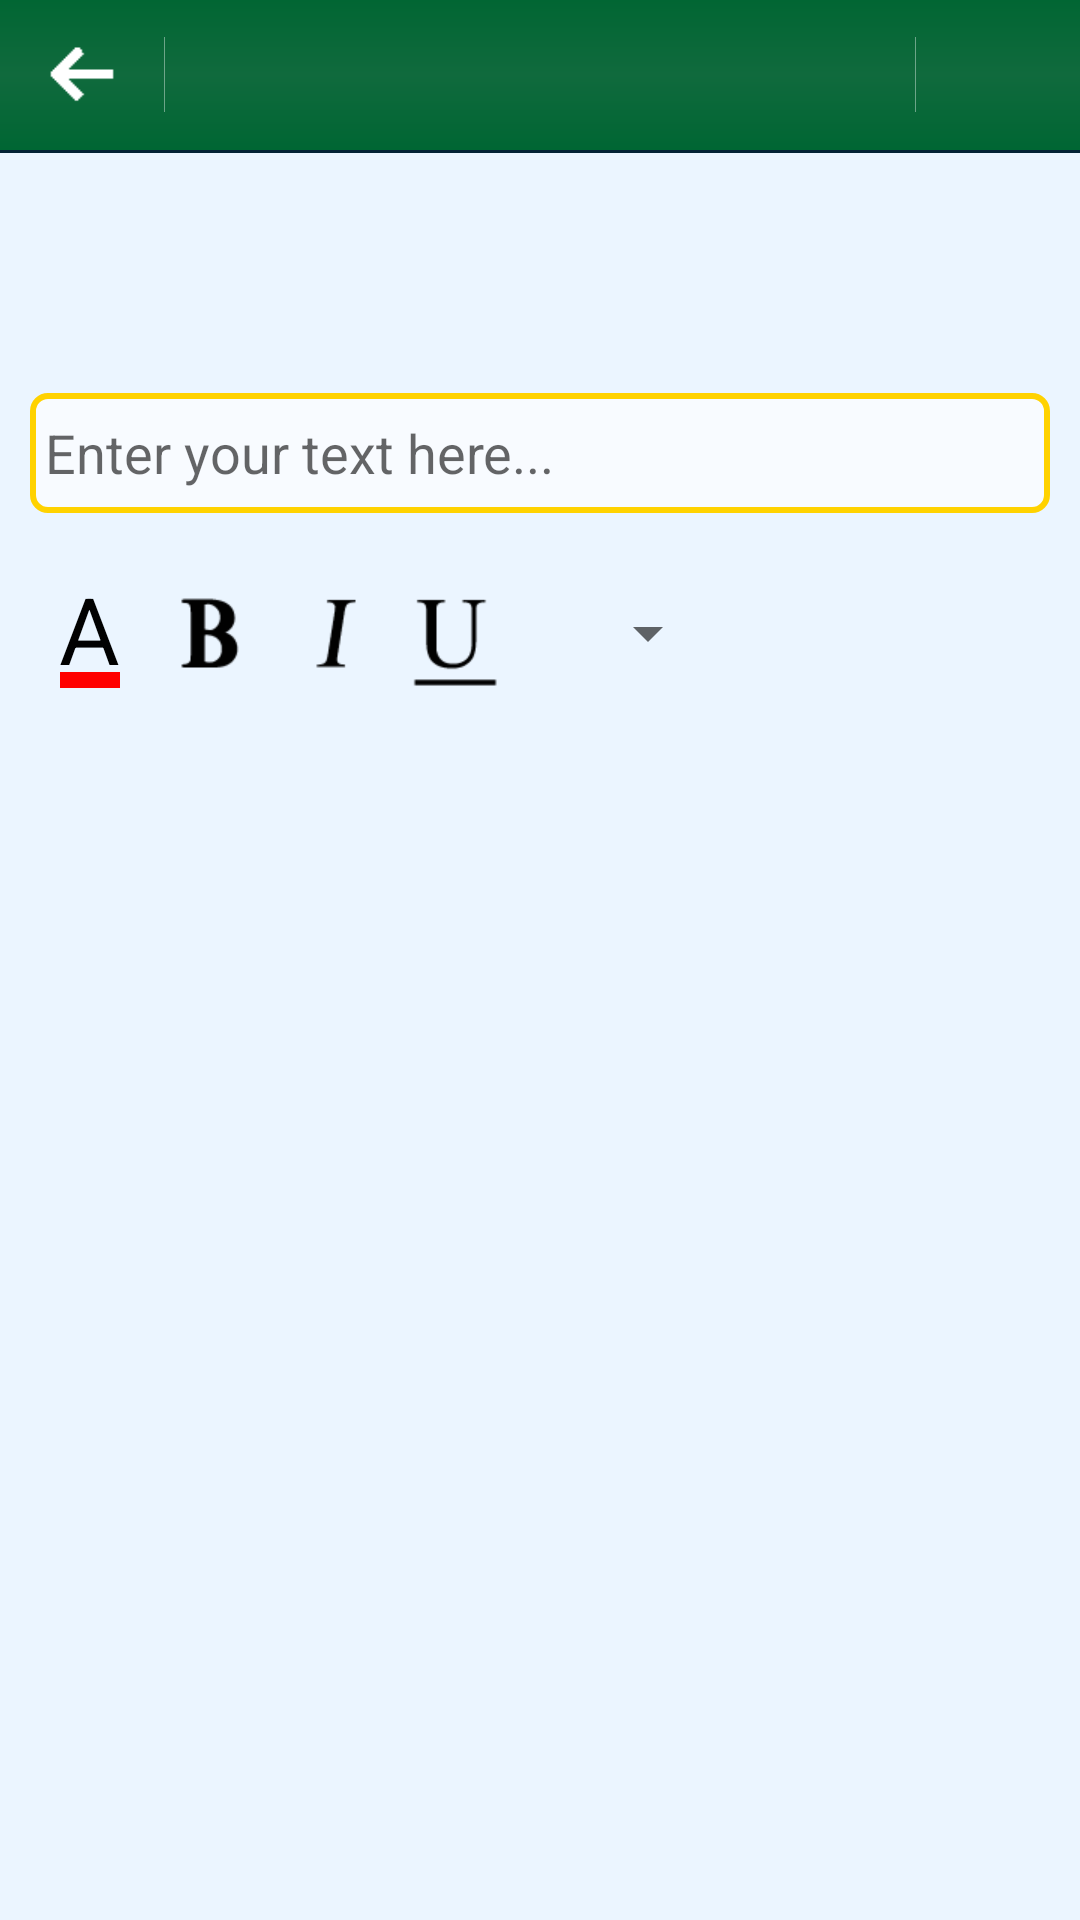

Where icons sit on this 1080 x 1920 app screen, as Rect(x1, y1, x2, y2):
back: Rect(50, 47, 114, 101)
